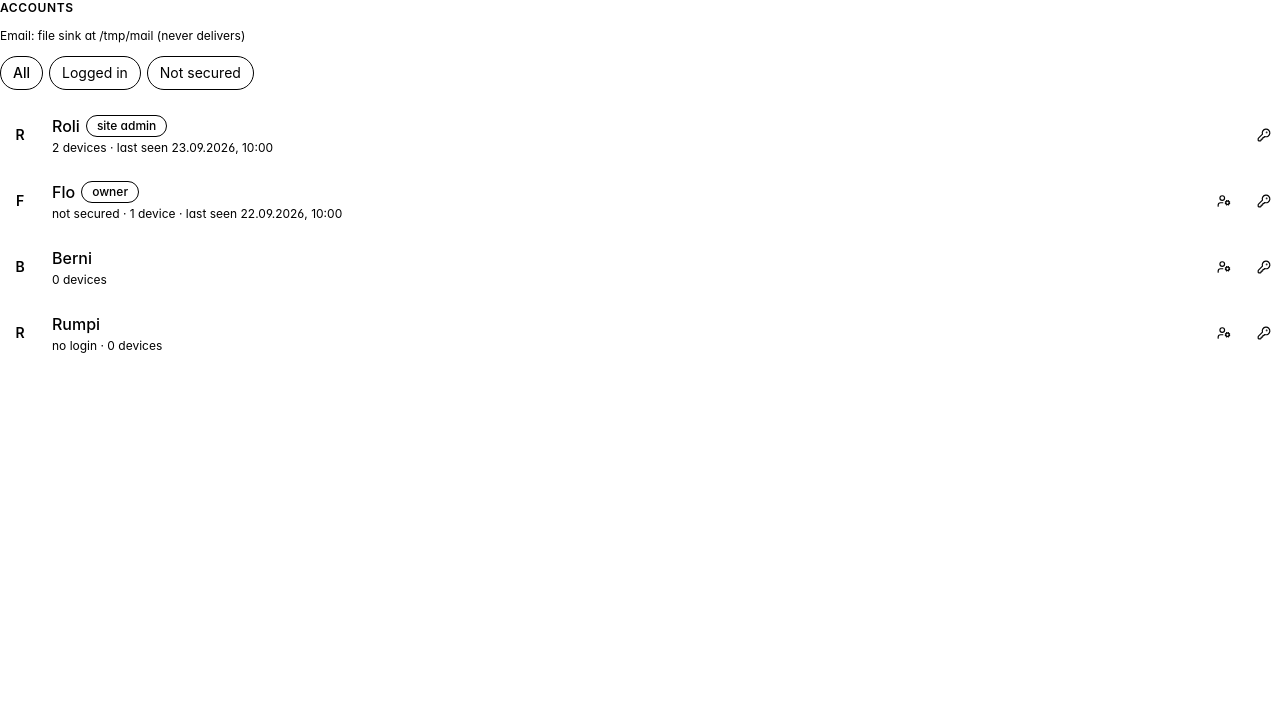
Test: AccountsTab › creates a reset link after asking and shows it once
Click the button named "Create a reset link for Flo".
click(1264, 201)  # box [1248, 185, 1279, 217]
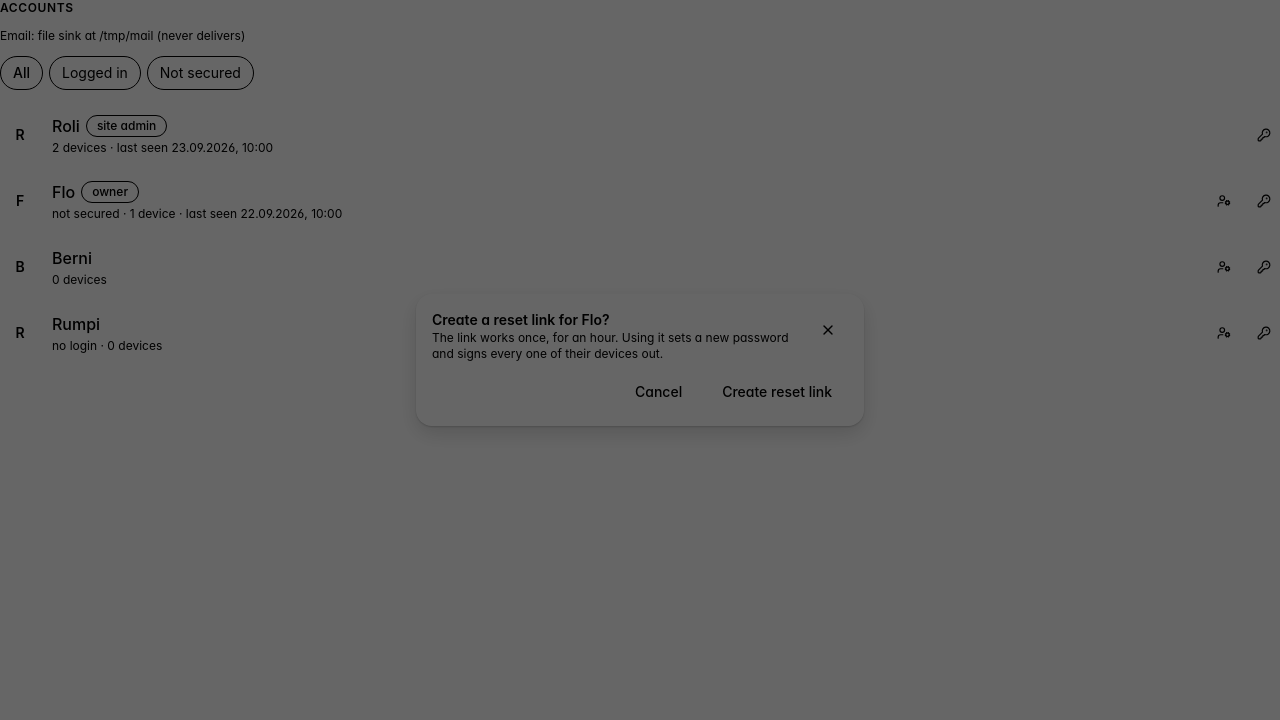
Click the button "Create reset link".
click(777, 392)  # box [706, 374, 848, 410]
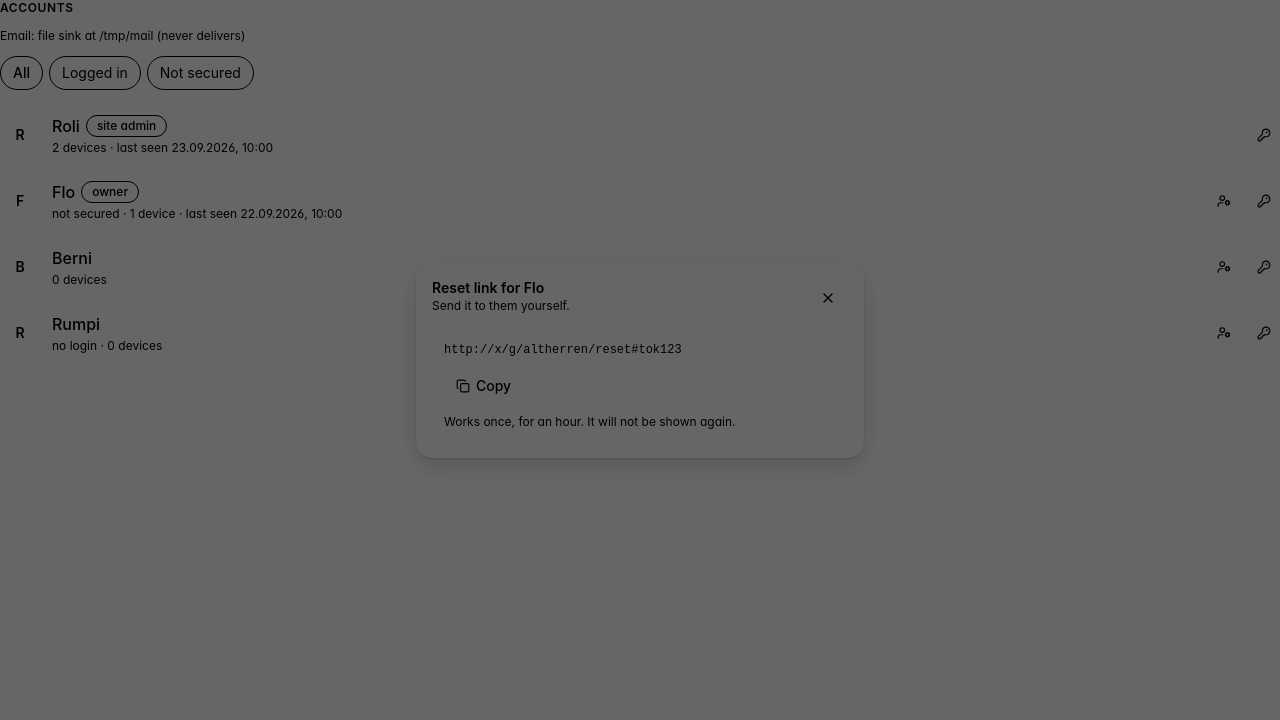
expect the text "Works once, for an hour. It will not be shown again." is shown: met, box [444, 414, 736, 429]
